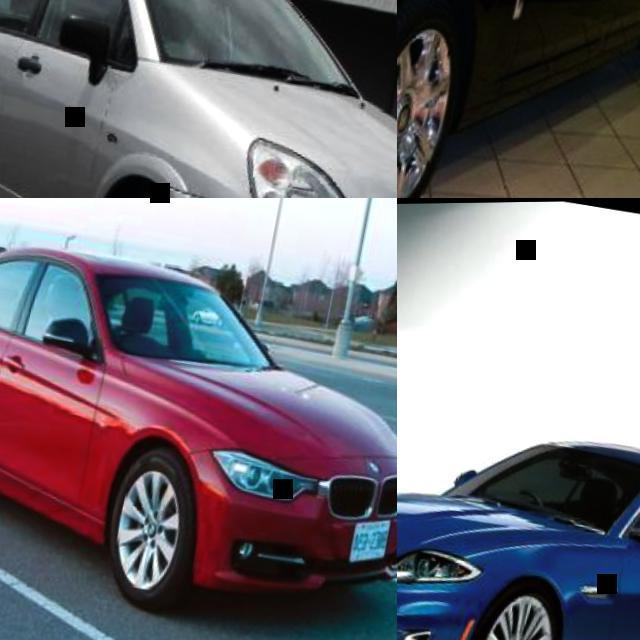car: (3, 220, 384, 612)
